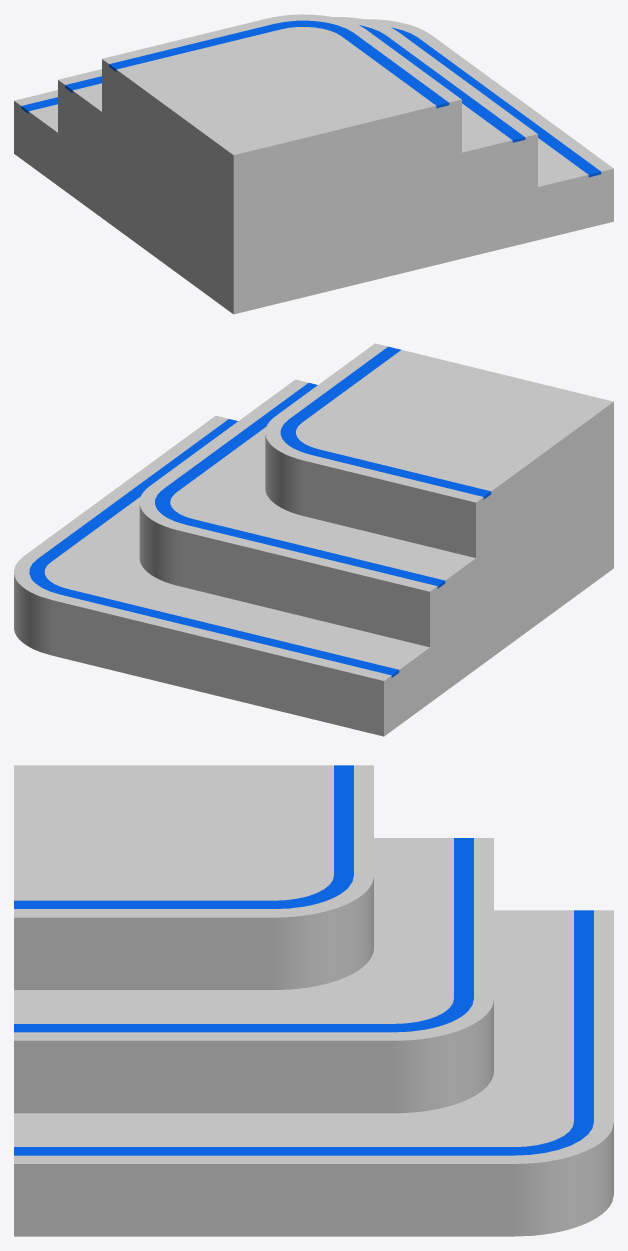
The model's file is steps_0.glb.
3 renders of one model, top to bottom at view 1: azimuth 30°, elevation 25°; view 2: azimuth 150°, elevation 25°; view 3: azimuth 270°, elevation 25°, orthographic. The views are drawn at different scales.
Visible parts, largest first — view 1: steps_0; view 2: steps_0; view 3: steps_0.
Part boxes in pixels (box(x1,y1,x2,y2)): steps_0: box(14, 14, 613, 314); steps_0: box(14, 343, 613, 736); steps_0: box(14, 765, 613, 1236).
Bounding box in the file's own units: 1.5 × 0.6 × 1.5.
